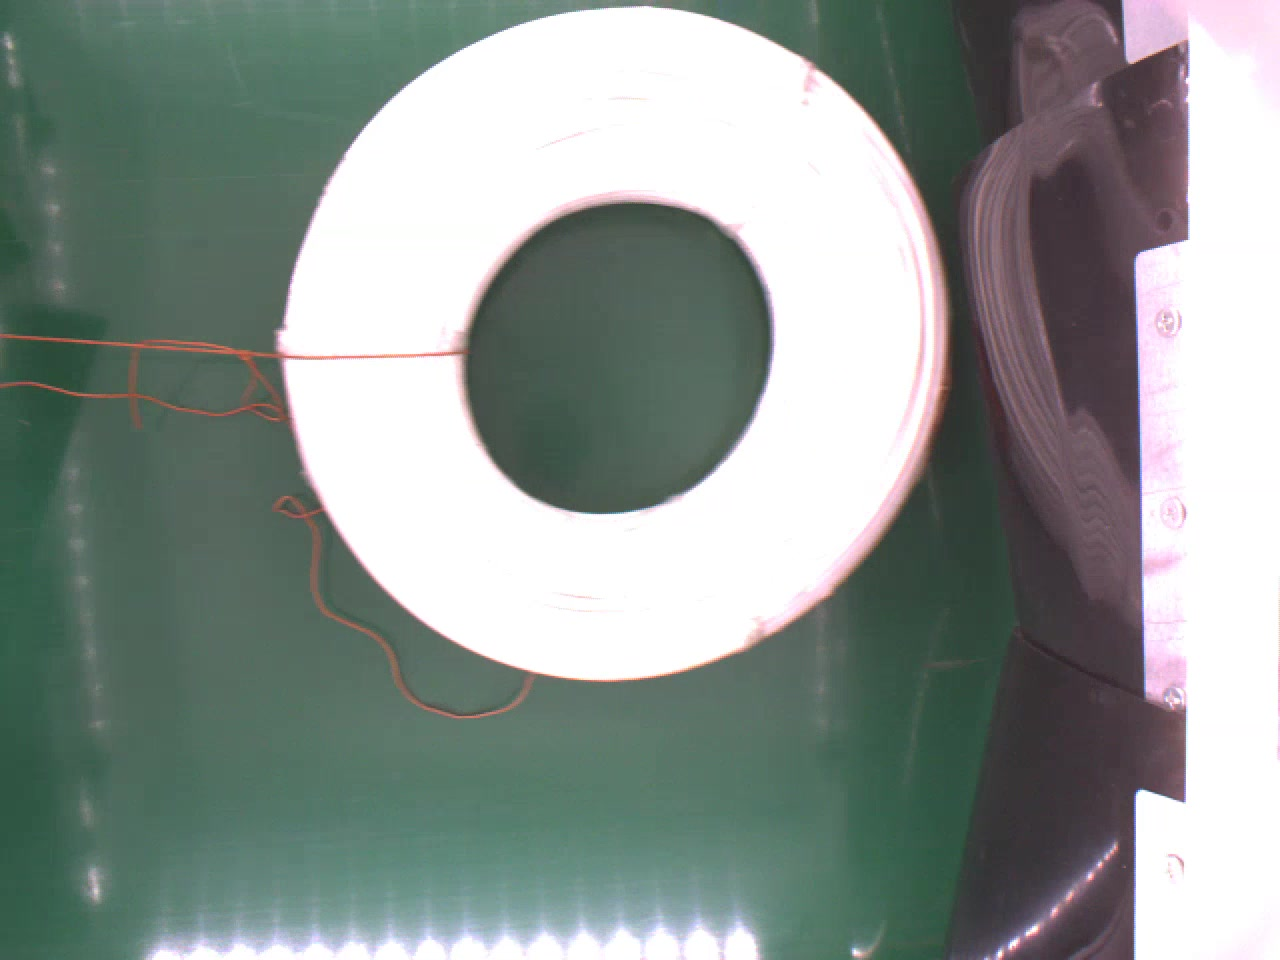white: (272, 8, 950, 679)
